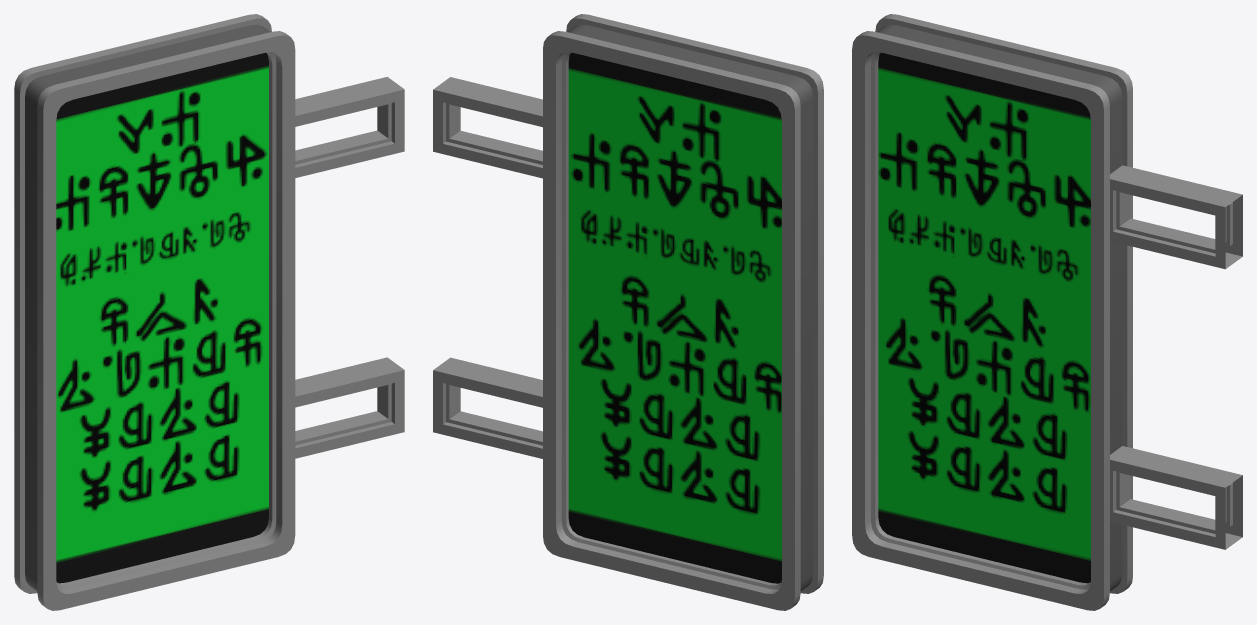
3 renders of one model, left to right at view 1: azimuth 30°, elevation 25°; view 2: azimuth 150°, elevation 25°; view 3: azimuth 330°, elevation 25°, orthographic.
Visible parts, largest first — view 1: MS_2M_7; view 2: MS_2M_7; view 3: MS_2M_7.
Boxes of the visible parts, x1,y1,x2,y2 form: MS_2M_7: [14, 14, 404, 610]; MS_2M_7: [433, 14, 823, 610]; MS_2M_7: [852, 14, 1242, 610].
Size of the model in its own units: 146 by 198 by 19.93.
